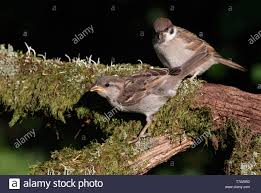hsparrow: (83, 47, 210, 131), (151, 14, 254, 86)
